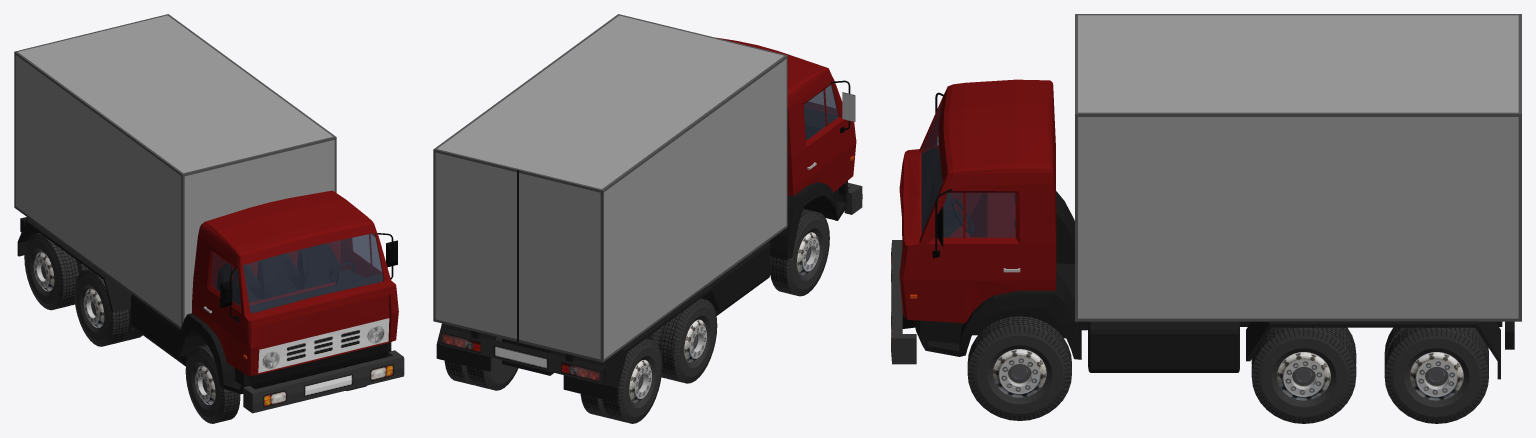
File: truck.obj
The picture shows the model from 3 angles, left to right: view 1: azimuth 30°, elevation 25°; view 2: azimuth 150°, elevation 25°; view 3: azimuth 270°, elevation 25°; orthographic projection. The views are drawn at different scales.
Parts seen in each view (by area): view 1: Cube.001, truck_Plane, truck-textured-parts_Plane.007, glass_Plane.002, inside-the-truck_Plane.005, truck.003_Plane.006, truck.001_Plane.001; view 2: Cube.001, truck_Plane, truck-textured-parts_Plane.007, truck.003_Plane.006, truck.001_Plane.001, glass_Plane.002, truck.002_Plane.003; view 3: Cube.001, truck_Plane, truck-textured-parts_Plane.007, truck.001_Plane.001, truck.003_Plane.006, glass_Plane.002, inside-the-truck_Plane.005.
Boxes of the visible parts, x1,y1,x2,y2 form: Cube.001: (14,14,336,329); truck_Plane: (17,190,398,394); truck-textured-parts_Plane.007: (24,233,404,423); glass_Plane.002: (211,233,383,313); inside-the-truck_Plane.005: (217,243,364,304); truck.003_Plane.006: (33,252,215,405); truck.001_Plane.001: (131,294,188,366); Cube.001: (433,14,787,362); truck_Plane: (436,37,856,402); truck-textured-parts_Plane.007: (440,182,862,423); truck.003_Plane.006: (629,232,819,403); truck.001_Plane.001: (708,241,770,315); glass_Plane.002: (803,84,838,140); truck.002_Plane.003: (440,327,606,384); Cube.001: (1075,14,1521,321); truck_Plane: (899,79,1502,379); truck-textured-parts_Plane.007: (891,240,1488,423); truck.001_Plane.001: (1088,321,1239,372); truck.003_Plane.006: (993,349,1463,400); glass_Plane.002: (921,103,1015,237); inside-the-truck_Plane.005: (943,193,1015,235).
Size of the model in its own units: 272 by 340 by 630.
11 materials, 2 textured.
